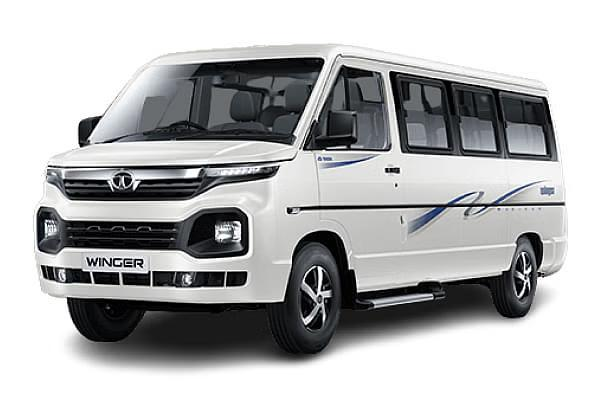Bus: (37, 44, 572, 356)
